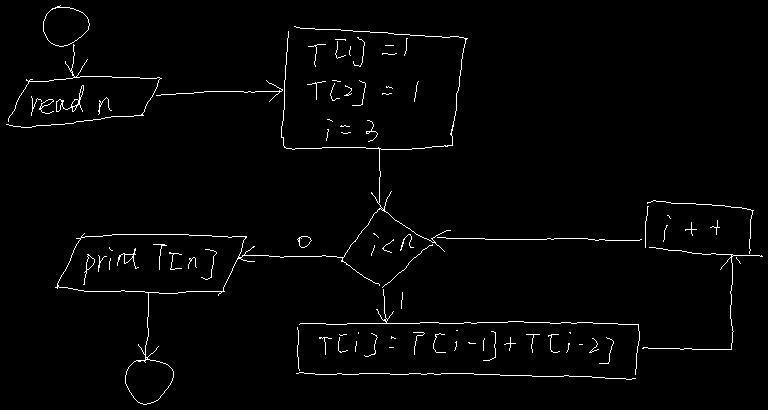arrow: (642, 254, 740, 349), (431, 230, 641, 251), (156, 80, 282, 101), (238, 246, 344, 261), (138, 293, 158, 360), (371, 147, 391, 210), (65, 44, 87, 77), (376, 289, 393, 322)
connection: (125, 359, 173, 404), (43, 5, 89, 46)
data: (55, 233, 246, 295), (6, 76, 161, 127)
decision: (341, 208, 434, 287)
process: (281, 26, 467, 149), (296, 321, 639, 379), (645, 200, 762, 256)
text: (307, 37, 418, 141), (319, 330, 613, 363), (83, 244, 216, 284), (31, 85, 111, 115), (663, 215, 719, 241), (371, 233, 413, 255), (297, 236, 311, 247), (400, 292, 403, 308)
